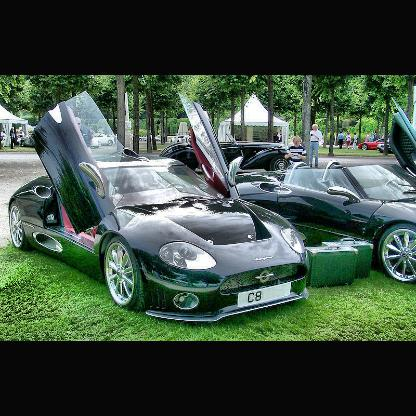Spyker C8 Convertible 2009: (8, 90, 315, 329)
